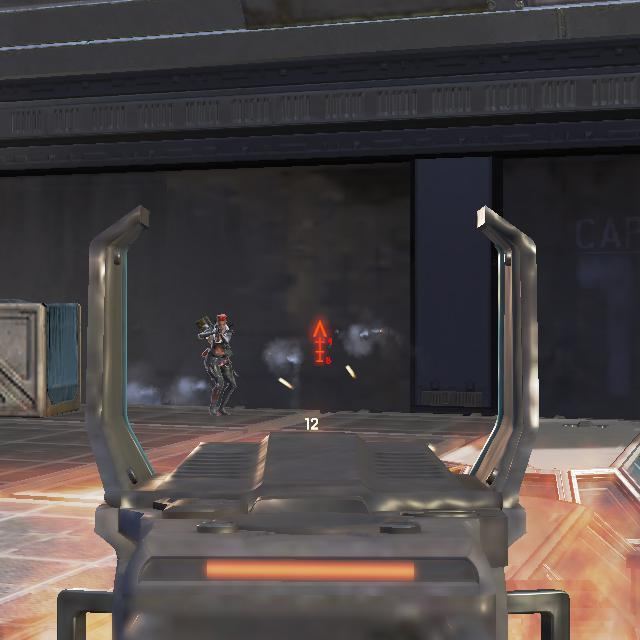avatar: (198, 310, 239, 418)
